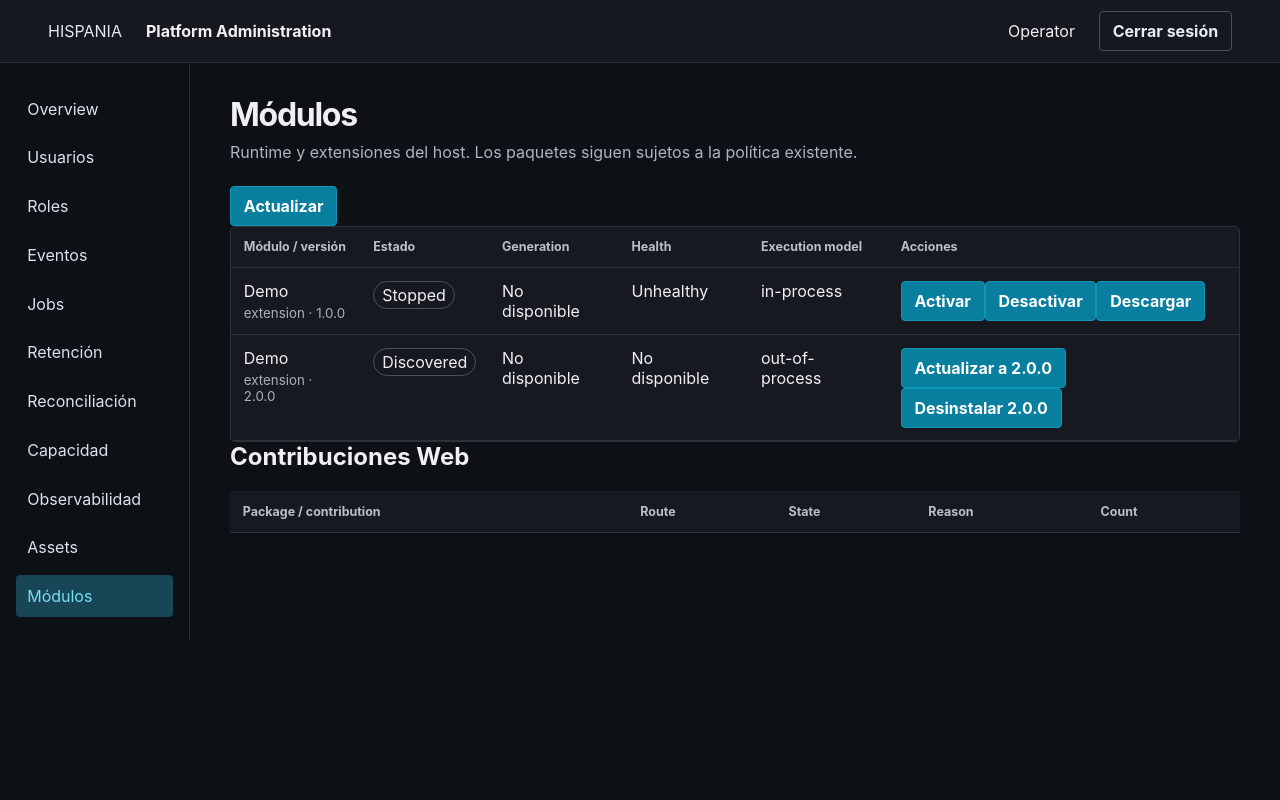
Scenario: targets an installed module version and permits reactivation of a stopped extension
This screenshot has width=1280, height=800.
Expected: the number of buttons "Activar" is 1, x1=901 y1=281 x2=985 y2=321
Click the button "Actualizar a 2.0.0".
click(983, 368)  # box x1=901 y1=348 x2=1066 y2=388
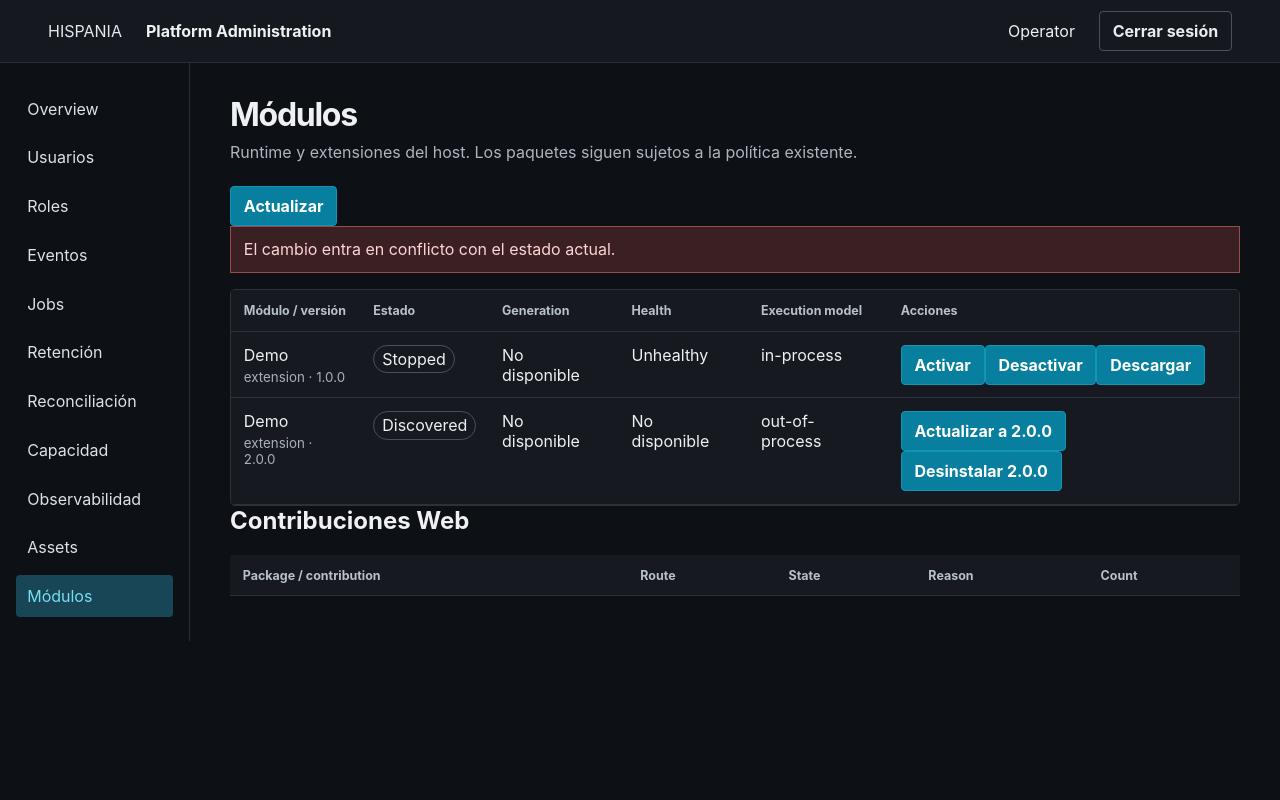
Now the message shows "conflicto", box x1=244 y1=239 x2=616 y2=259
